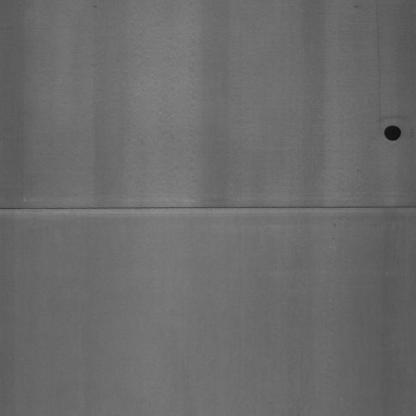punching_hole: (378, 120, 407, 150)
welding_line: (2, 184, 416, 224)
